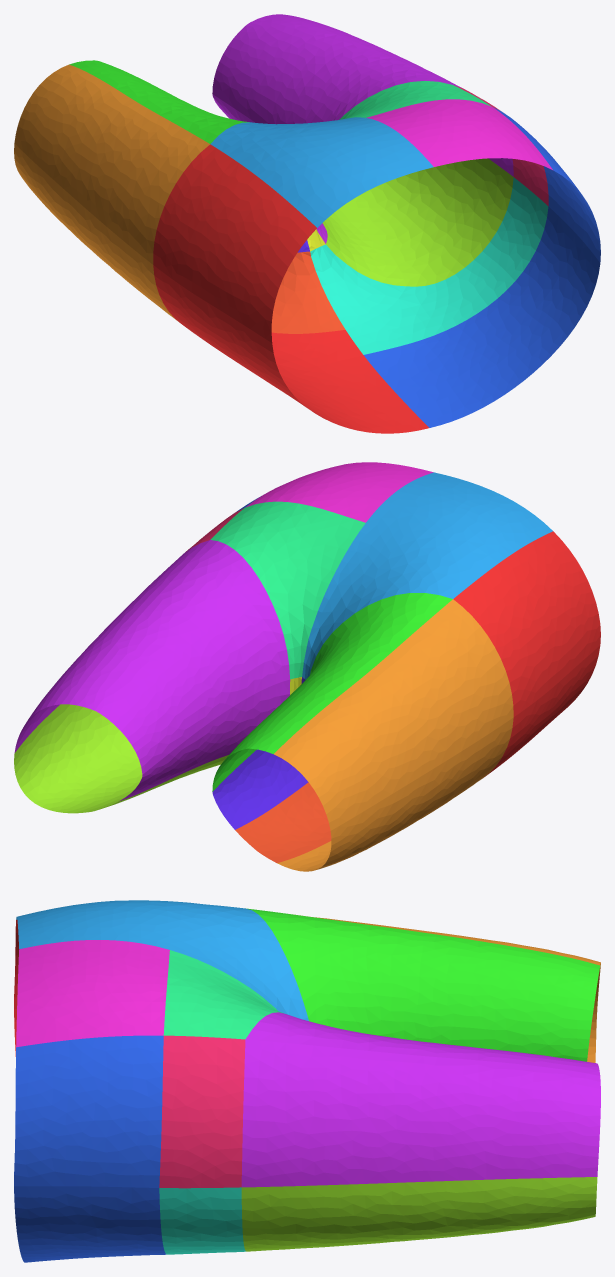
File: shorts_garmentA.obj
The picture shows the model from 3 angles, top to bottom: view 1: azimuth 30°, elevation 25°; view 2: azimuth 150°, elevation 25°; view 3: azimuth 270°, elevation 25°; orthographic projection. The views are drawn at different scales.
Visible parts, largest first — view 1: shorts_garmentA; view 2: shorts_garmentA; view 3: shorts_garmentA.
Boxes of the visible parts, x1,y1,x2,y2 form: shorts_garmentA: [14, 14, 600, 433]; shorts_garmentA: [14, 462, 600, 871]; shorts_garmentA: [14, 900, 600, 1262].
Size of the model in its own units: 551 by 398 by 702.
